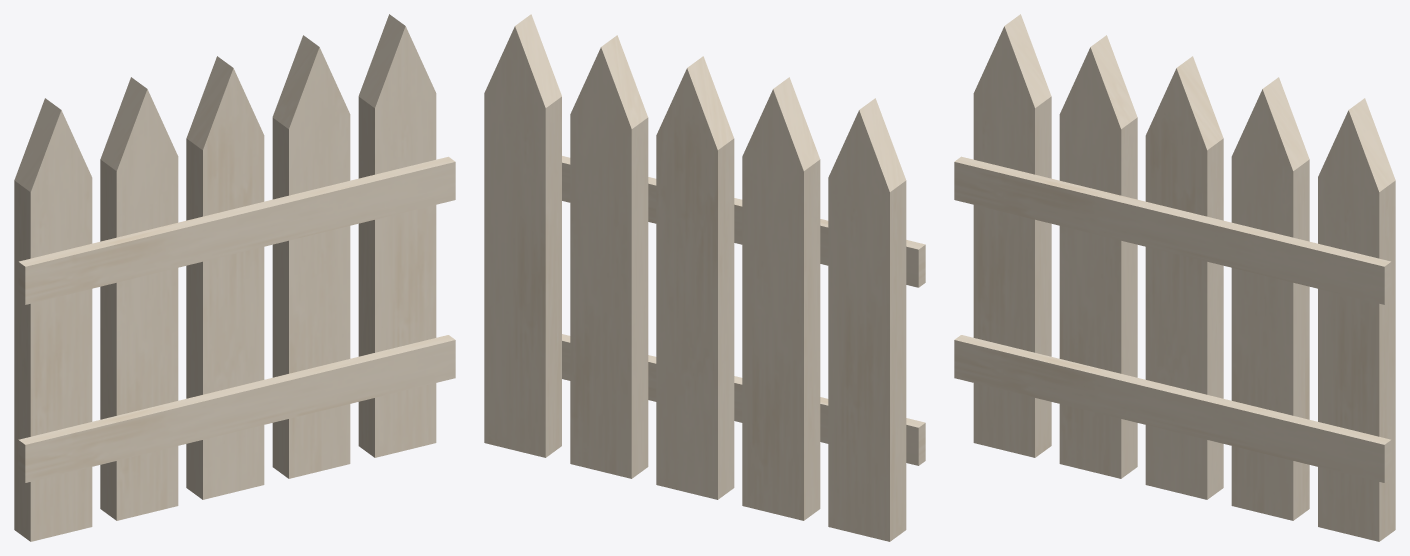
The model's file is Fence1.fbx.
3 renders of one model, left to right at view 1: azimuth 30°, elevation 25°; view 2: azimuth 150°, elevation 25°; view 3: azimuth 330°, elevation 25°, orthographic.
Visible parts, largest first — view 1: Cube.036, Cube.035; view 2: Cube.036, Cube.035; view 3: Cube.036, Cube.035.
Part boxes in pixels (box(x1,y1,x2,y2)): Cube.036: box(14, 14, 436, 541); Cube.035: box(18, 156, 455, 482); Cube.036: box(484, 14, 906, 541); Cube.035: box(562, 156, 925, 465); Cube.036: box(973, 14, 1395, 541); Cube.035: box(954, 156, 1391, 482).
Size of the model in its own units: 106 by 100 by 10.
Materials: 1 (1 with a texture image).
